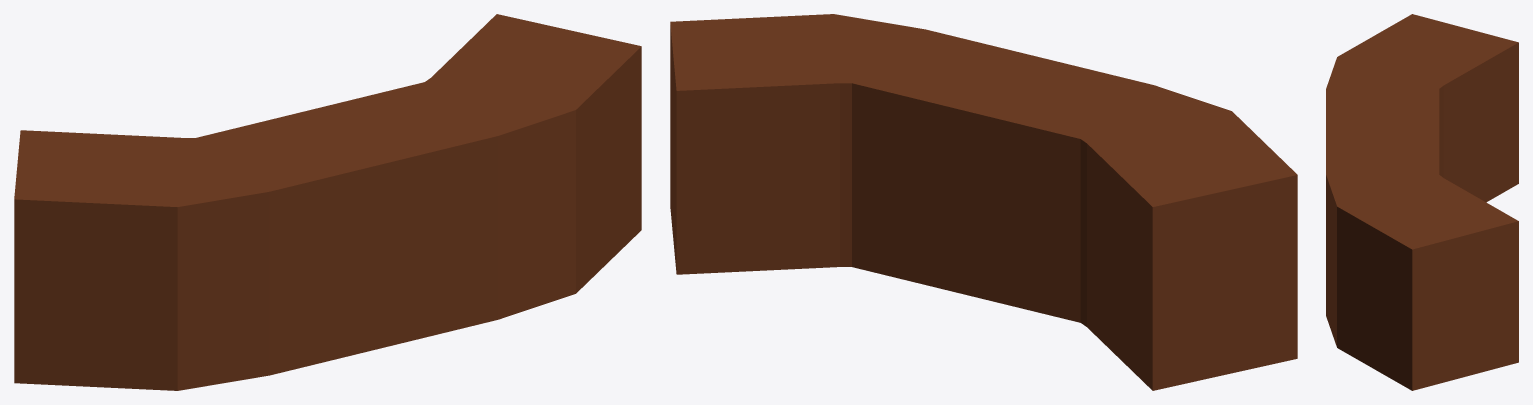
Rendered from Desk.fbx.
3 views of the same model, side by side, from view 1: azimuth 30°, elevation 25°; view 2: azimuth 150°, elevation 25°; view 3: azimuth 270°, elevation 25° (orthographic). The views are drawn at different scales.
Parts seen in each view (by area): view 1: Desk; view 2: Desk; view 3: Desk.
Part boxes in pixels (x1,y1,x2,y2): Desk: (14, 14, 641, 390); Desk: (670, 14, 1297, 390); Desk: (1326, 14, 1518, 390).
Bounding box in the file's own units: 492 × 138 × 170.
